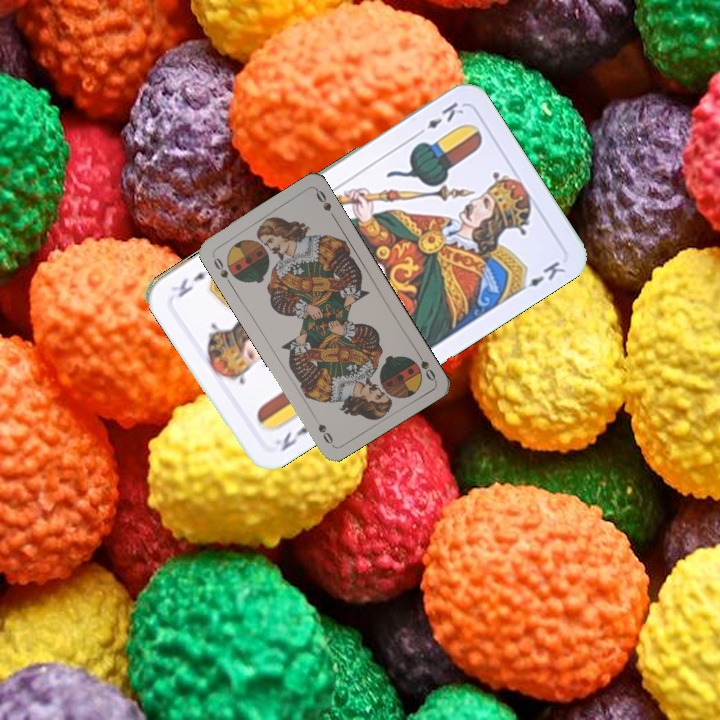EK: (411, 97, 467, 140), (276, 422, 312, 454)
SO: (412, 346, 438, 384), (208, 251, 234, 288)
